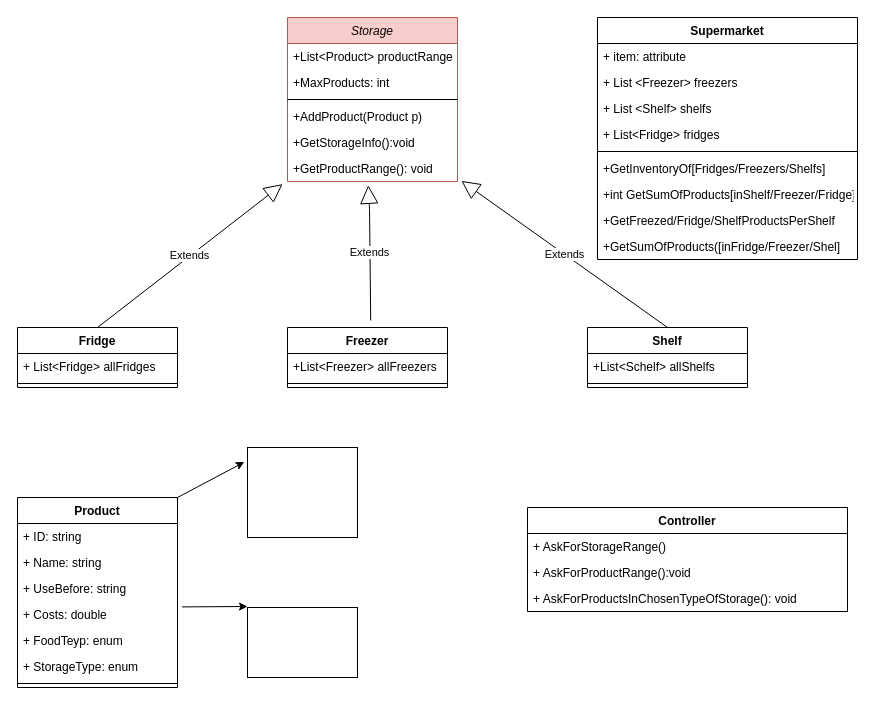
The diagram is 875 pixels wide and 705 high, and some of its shapes have lost their labels. Each missing label, with the centre of its shape:
FoodType enum: sweets; fruits; vagetables; alcohol: point 302,492
StorageType enum: freidge; freezer; normal: point 302,642
